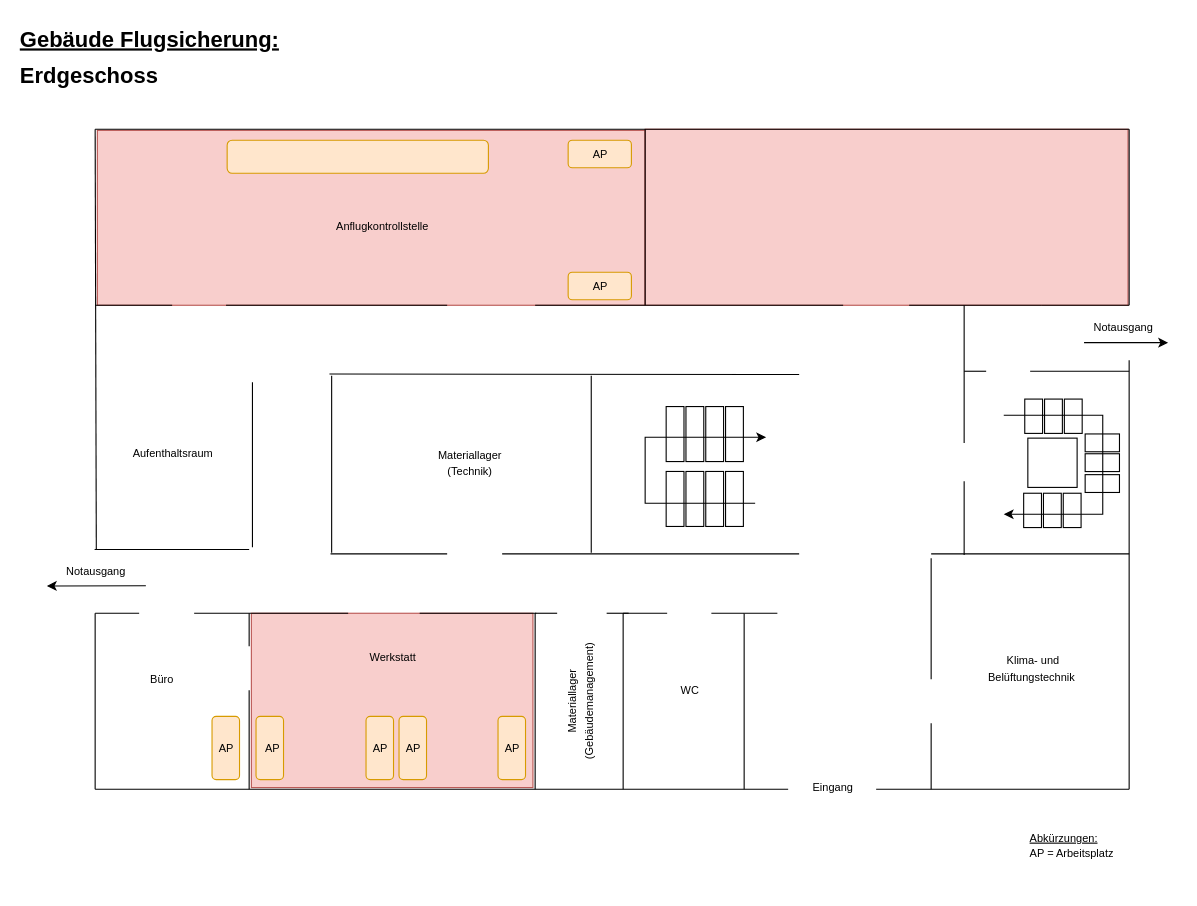
Image size: 1197x906. Some labels were removed from this diagram. Each missing label, with the centre of its shape:
"Aufzug" belongs at point (1052, 462).
"Flugsicherungstechnische Anlagen" belongs at point (357, 156).
"Serverraum (Flugsicherungsanlagen)" belongs at point (886, 216).
